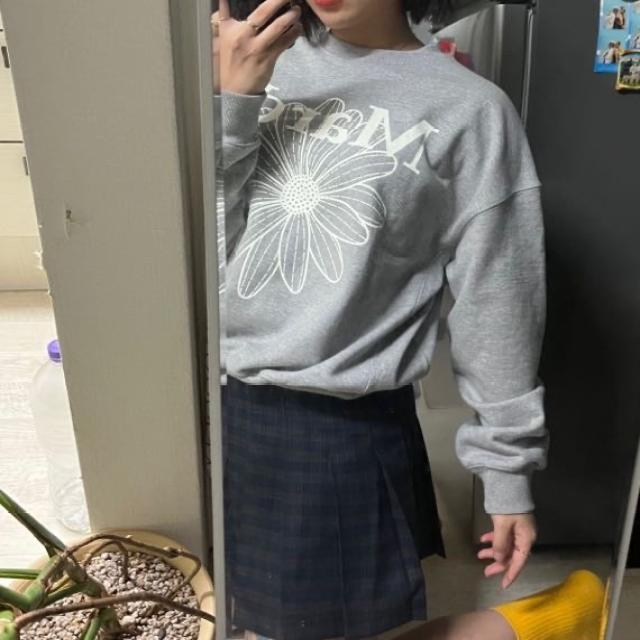mtm: (221, 25, 549, 515)
skirt: (222, 371, 446, 640)
